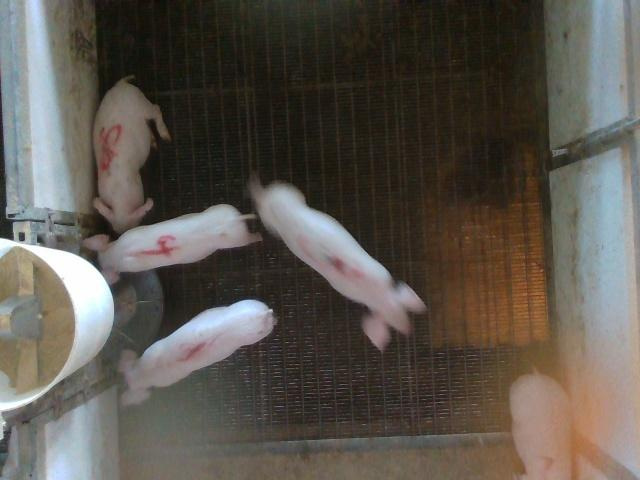pig-1: (119, 300, 276, 405)
pig-3: (249, 178, 424, 351)
pig-4: (85, 204, 260, 284)
pig-5: (92, 76, 170, 234)
